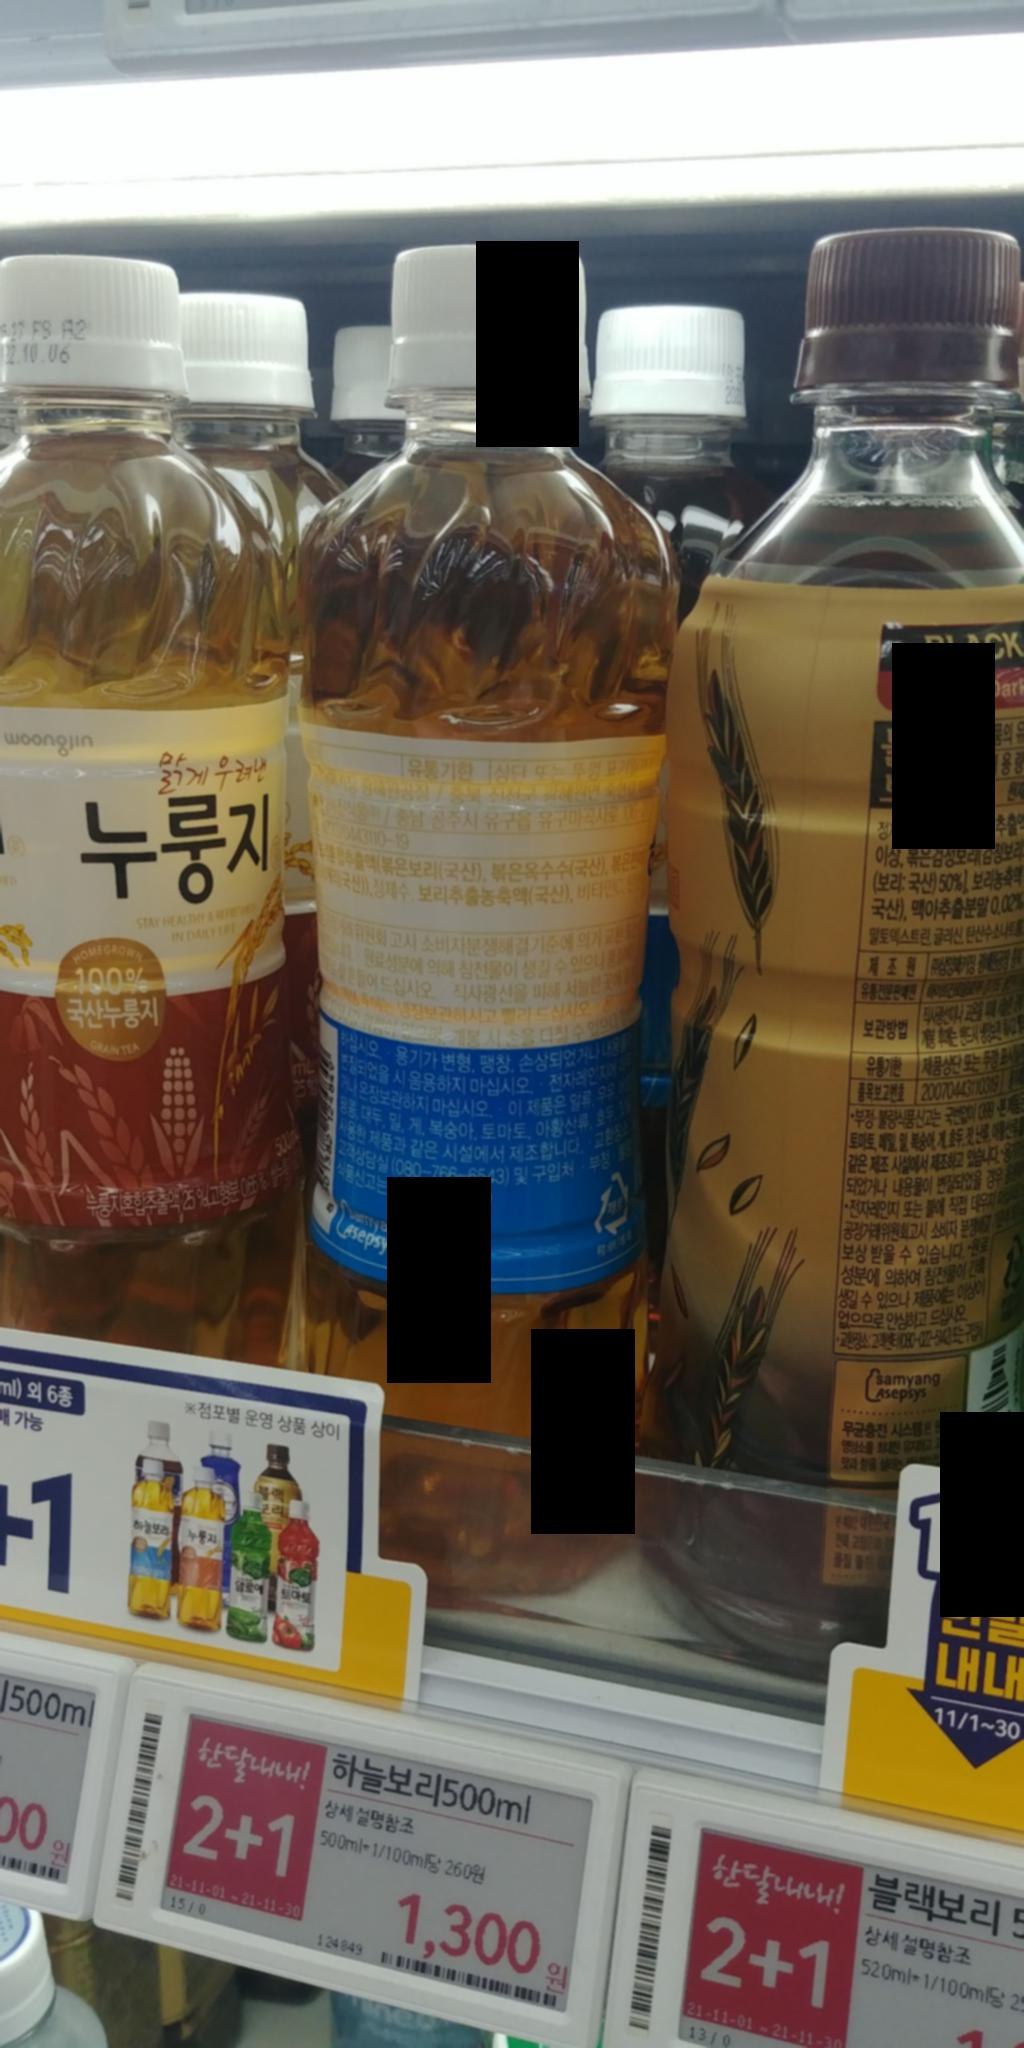haneulbori: (269, 229, 691, 1601)
